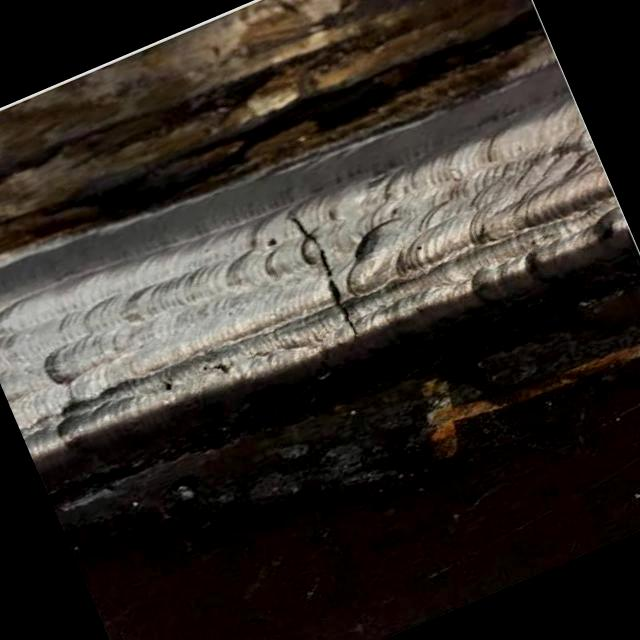defect: (288, 215, 361, 343)
